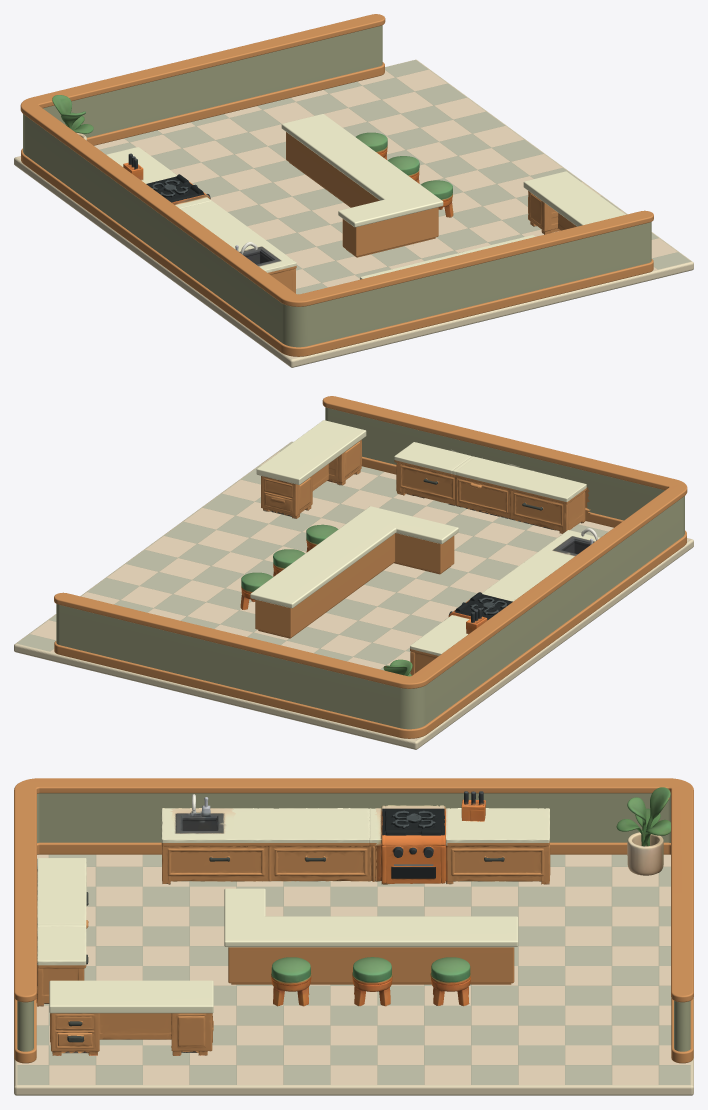
The model's file is sushi-room-v13-clean.glb.
3 renders of one model, top to bottom at view 1: azimuth 30°, elevation 25°; view 2: azimuth 150°, elevation 25°; view 3: azimuth 270°, elevation 25°, orthographic. The views are drawn at different scales.
Visible parts, largest first — view 1: Kitchen • clean tiled floor, Kitchen • continuous rounded wall panels, Kitchen • continuous oak top rail, Kitchen • preserved Tripo furnishings, Kitchen • continuous oak base rail, Front Island • continuous L worktop, Front Island • clean wood body, Cashier Desk • replacement ivory worktop; view 2: Kitchen • clean tiled floor, Kitchen • continuous rounded wall panels, Kitchen • preserved Tripo furnishings, Kitchen • continuous oak top rail, Kitchen • continuous oak base rail, Front Island • continuous L worktop, Front Island • clean wood body, Cashier Desk • replacement ivory worktop; view 3: Kitchen • clean tiled floor, Kitchen • preserved Tripo furnishings, Kitchen • continuous oak top rail, Kitchen • continuous rounded wall panels, Front Island • continuous L worktop, Front Island • clean wood body, Cashier Desk • replacement ivory worktop, Kitchen • continuous oak base rail.
Boxes of the visible parts, x1,y1,x2,y2 form: Kitchen • clean tiled floor: [14, 59, 693, 367]; Kitchen • continuous rounded wall panels: [23, 25, 651, 347]; Kitchen • continuous oak top rail: [20, 14, 653, 306]; Kitchen • preserved Tripo furnishings: [52, 95, 576, 293]; Kitchen • continuous oak base rail: [21, 62, 653, 356]; Front Island • continuous L worktop: [281, 114, 443, 227]; Front Island • clean wood body: [286, 132, 438, 256]; Cashier Desk • replacement ivory worktop: [523, 171, 625, 226]; Kitchen • clean tiled floor: [14, 441, 693, 749]; Kitchen • continuous rounded wall panels: [56, 407, 684, 729]; Kitchen • preserved Tripo furnishings: [240, 440, 599, 676]; Kitchen • continuous oak top rail: [54, 396, 687, 688]; Kitchen • continuous oak base rail: [54, 456, 686, 738]; Front Island • continuous L worktop: [250, 506, 458, 608]; Front Island • clean wood body: [255, 533, 454, 637]; Cashier Desk • replacement ivory worktop: [256, 420, 366, 484]; Kitchen • clean tiled floor: [14, 854, 693, 1095]; Kitchen • preserved Tripo furnishings: [36, 787, 670, 1055]; Kitchen • continuous oak top rail: [14, 778, 693, 1002]; Kitchen • continuous rounded wall panels: [17, 793, 690, 1051]; Front Island • continuous L worktop: [224, 888, 518, 947]; Front Island • clean wood body: [228, 947, 514, 983]; Cashier Desk • replacement ivory worktop: [49, 980, 213, 1013]; Kitchen • continuous oak base rail: [14, 842, 693, 1063].
Bounding box in the file's own units: 5.98 × 0.9861 × 7.13.
Materials: 17 (3 with a texture image).
